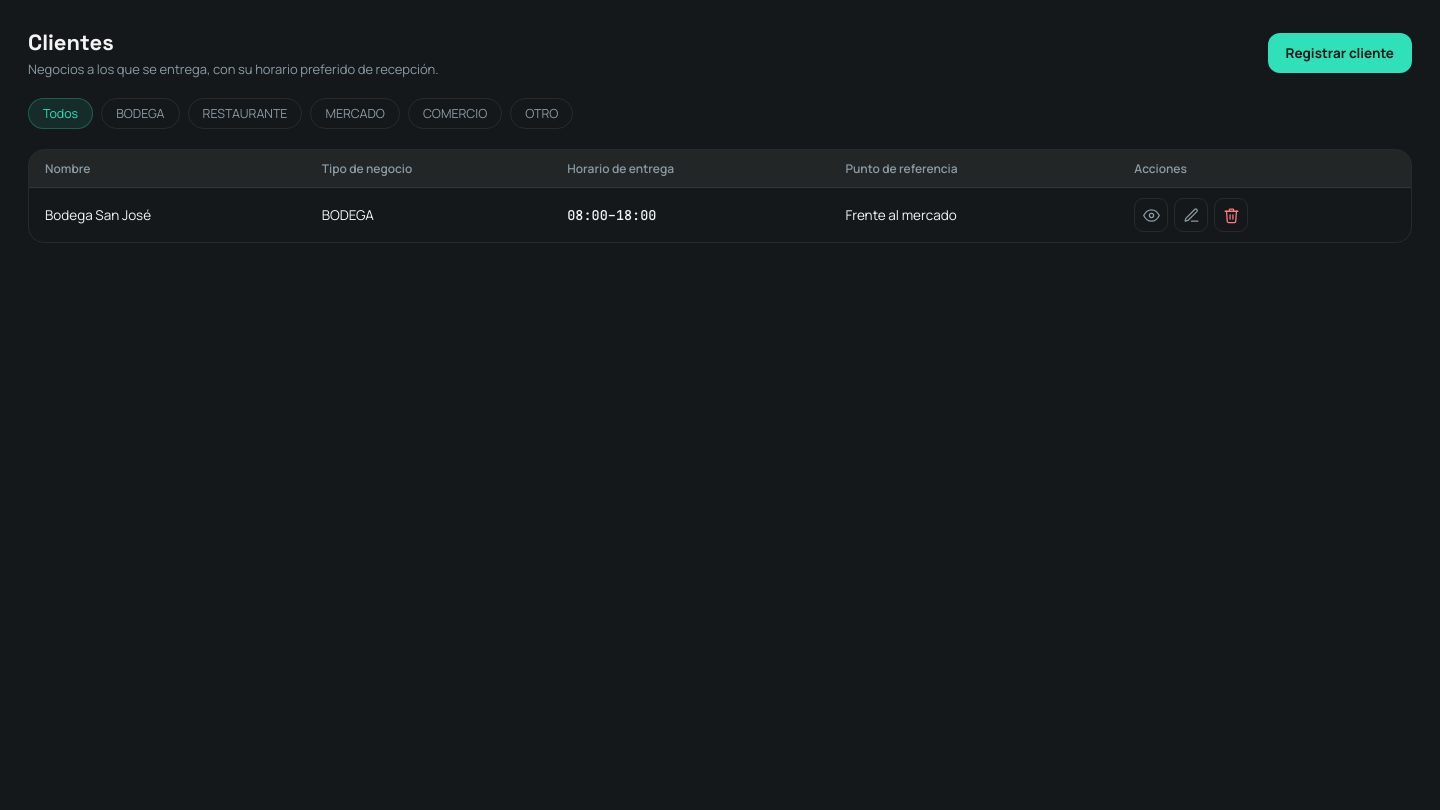
Test: Clientes: detalle, edición y eliminación › si el cliente tiene pedidos muestra el motivo que devuelve la API
Click the button named "Eliminar Bodega San José" at (1231, 215), box [1214,198,1248,232]
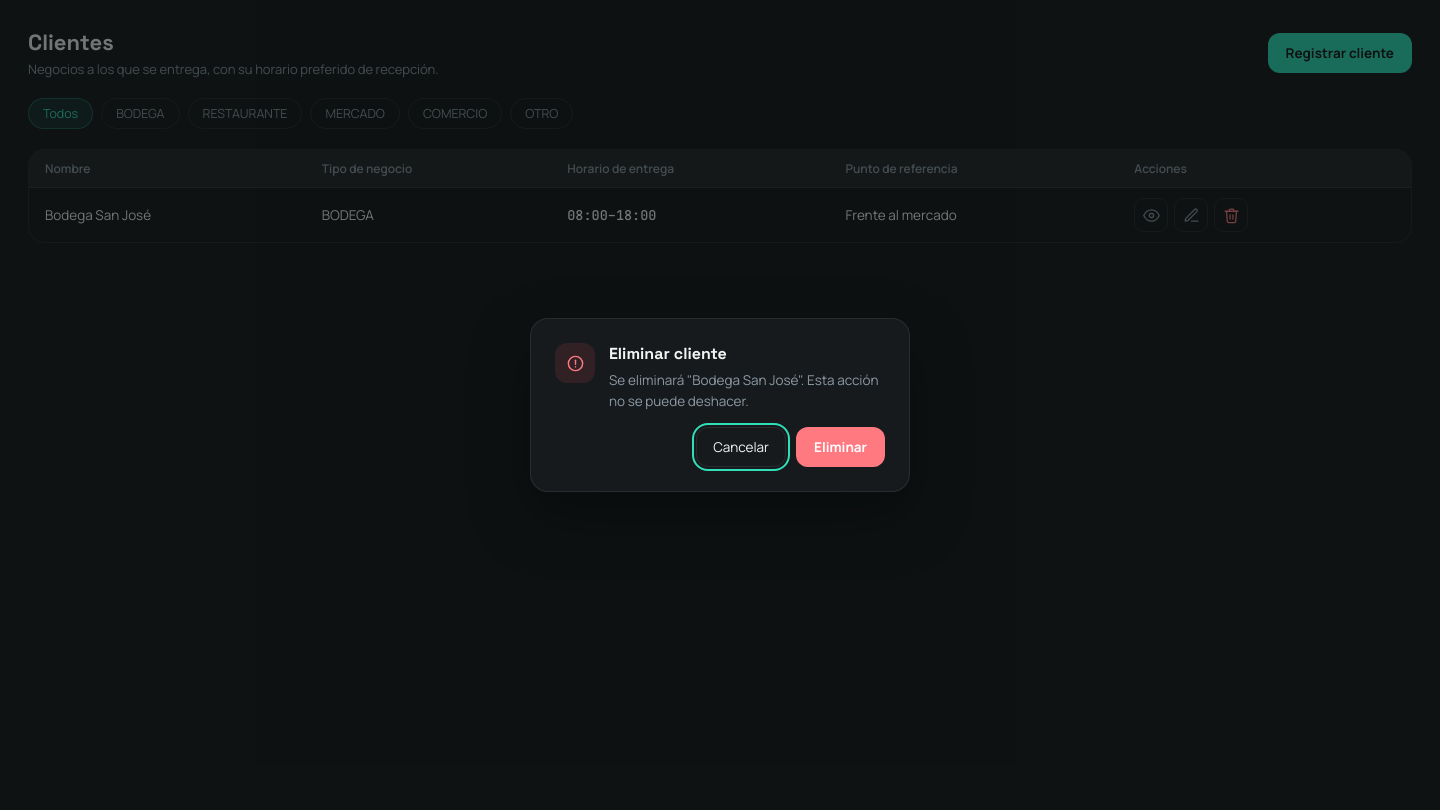
Click the button "Eliminar" at (840, 447), box [796,427,885,467]
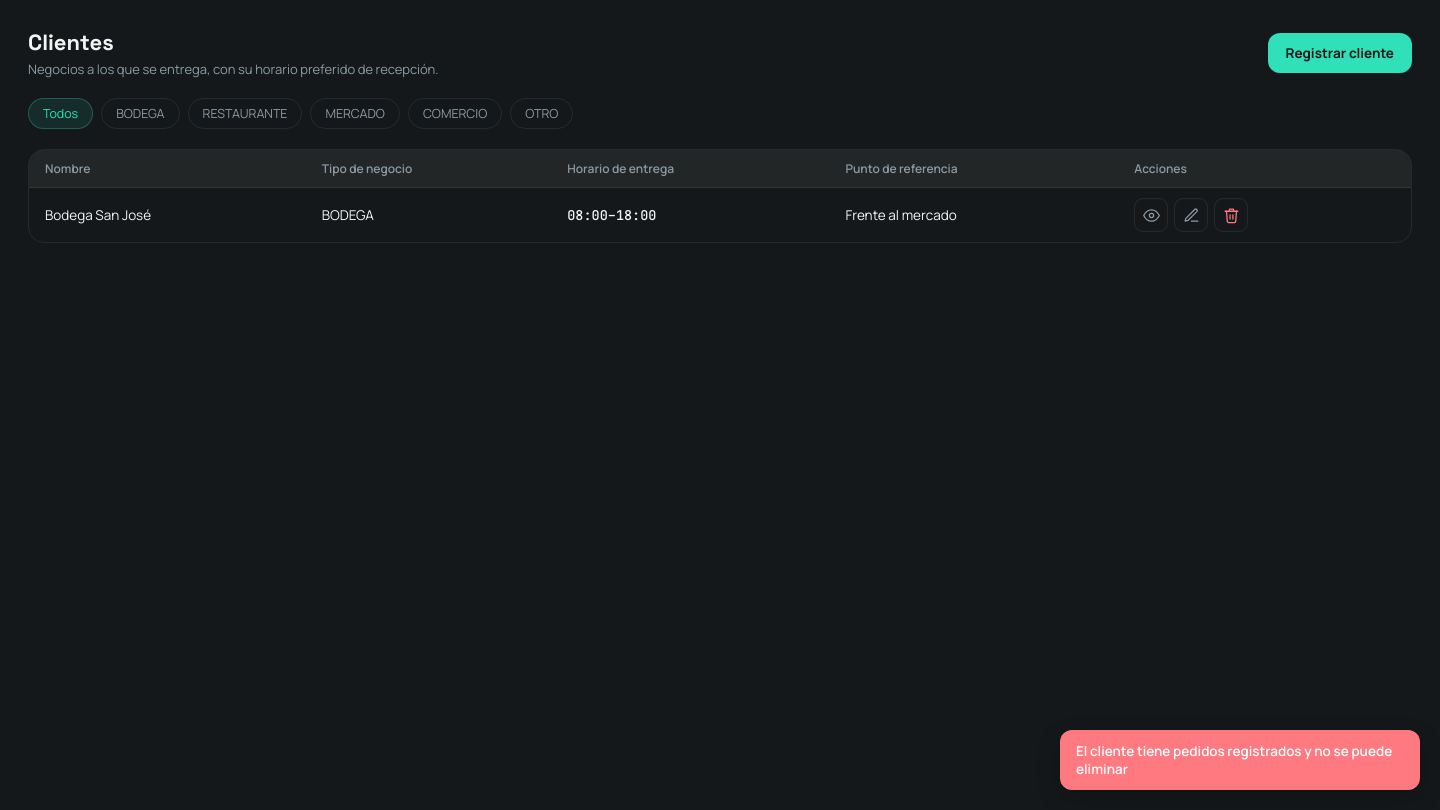
Now the text "El cliente tiene pedidos registrados y no se puede eliminar" is shown, box [1060,730,1420,790]
